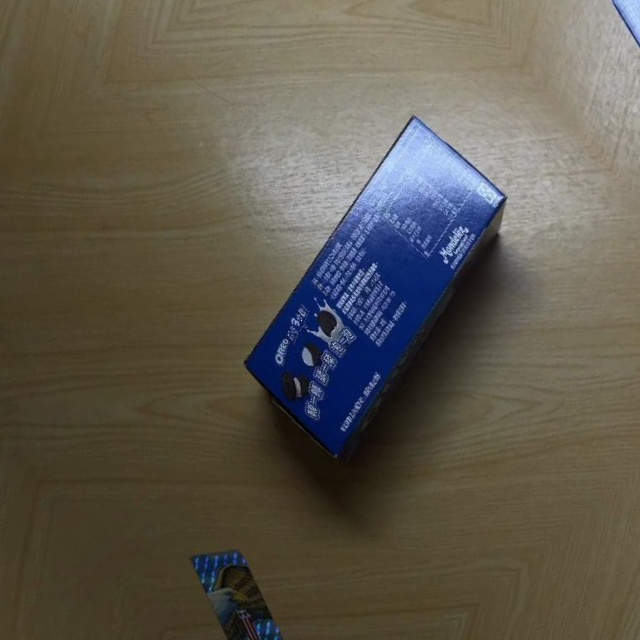Oreo: (189, 100, 574, 474)
